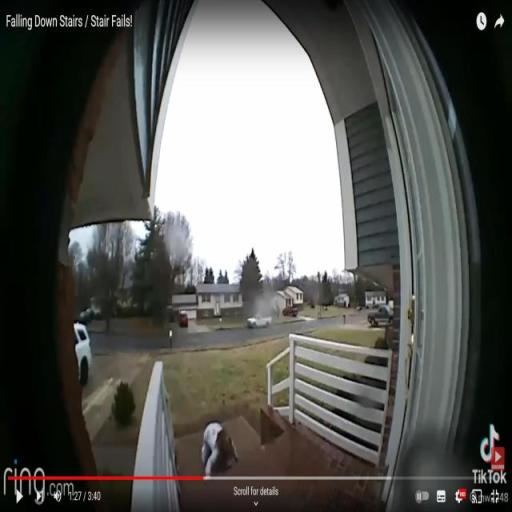Fall: (198, 416, 241, 481)
